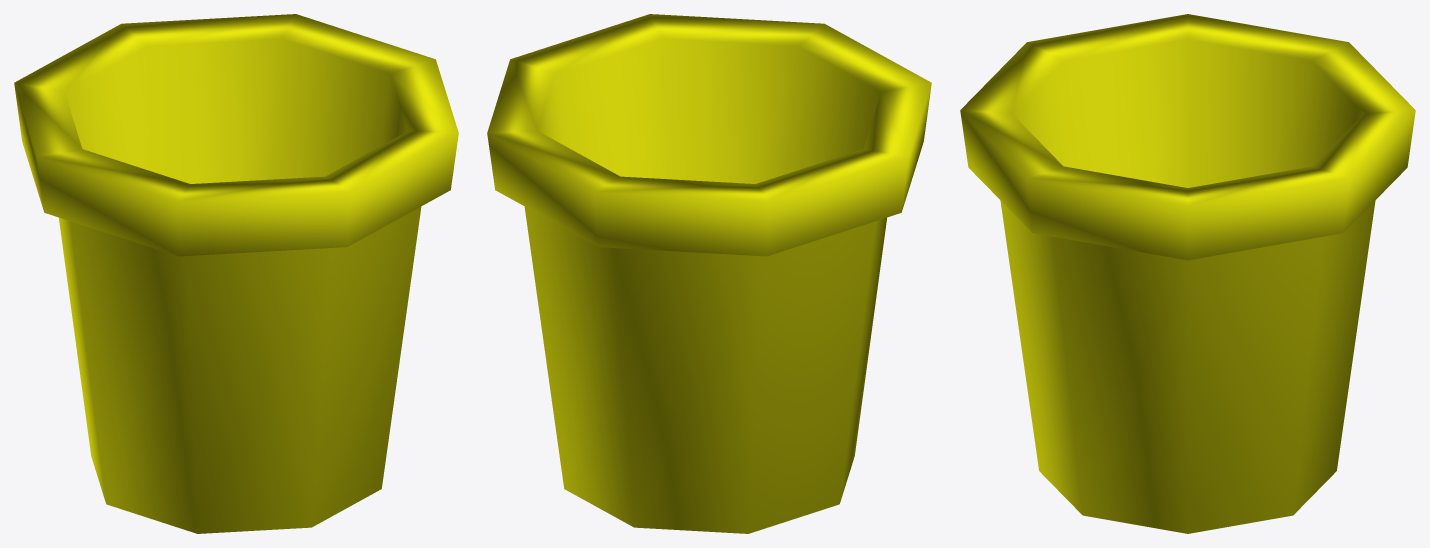
The model's file is cup2.fbx.
3 renders of one model, left to right at view 1: azimuth 30°, elevation 25°; view 2: azimuth 150°, elevation 25°; view 3: azimuth 270°, elevation 25°, orthographic.
Parts seen in each view (by area): view 1: envasset_cup2; view 2: envasset_cup2; view 3: envasset_cup2.
Part boxes in pixels (x1,y1,x2,y2): envasset_cup2: (14, 14, 458, 533); envasset_cup2: (487, 14, 931, 533); envasset_cup2: (960, 14, 1415, 533).
Size of the model in its own units: 1.14 by 0.9956 by 1.14.
